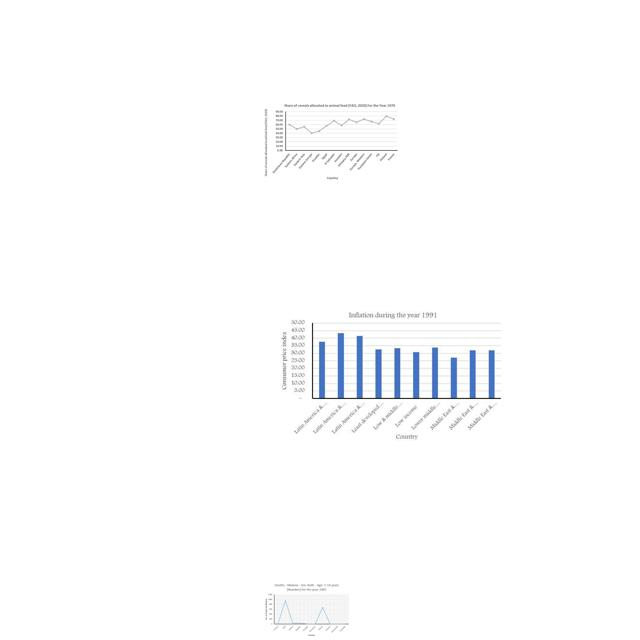Graph: (280, 311, 505, 441), (261, 102, 401, 182), (263, 582, 350, 637)
